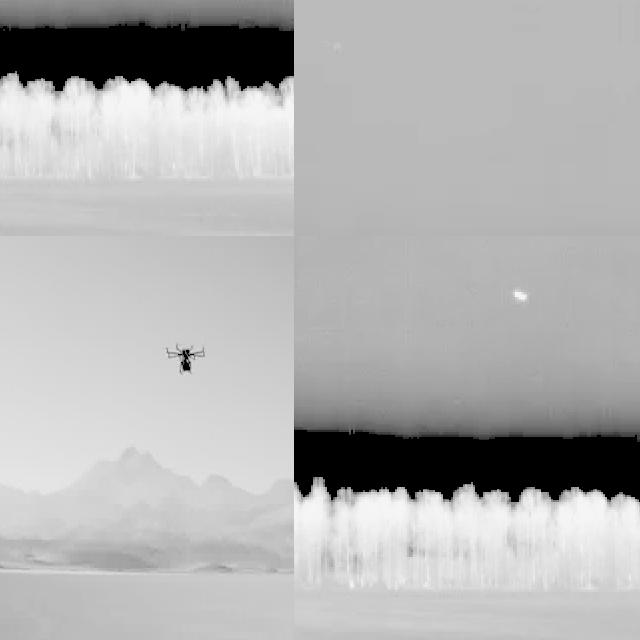0: (322, 37, 348, 64)
1: (500, 283, 536, 313)
drone: (164, 338, 209, 375)
